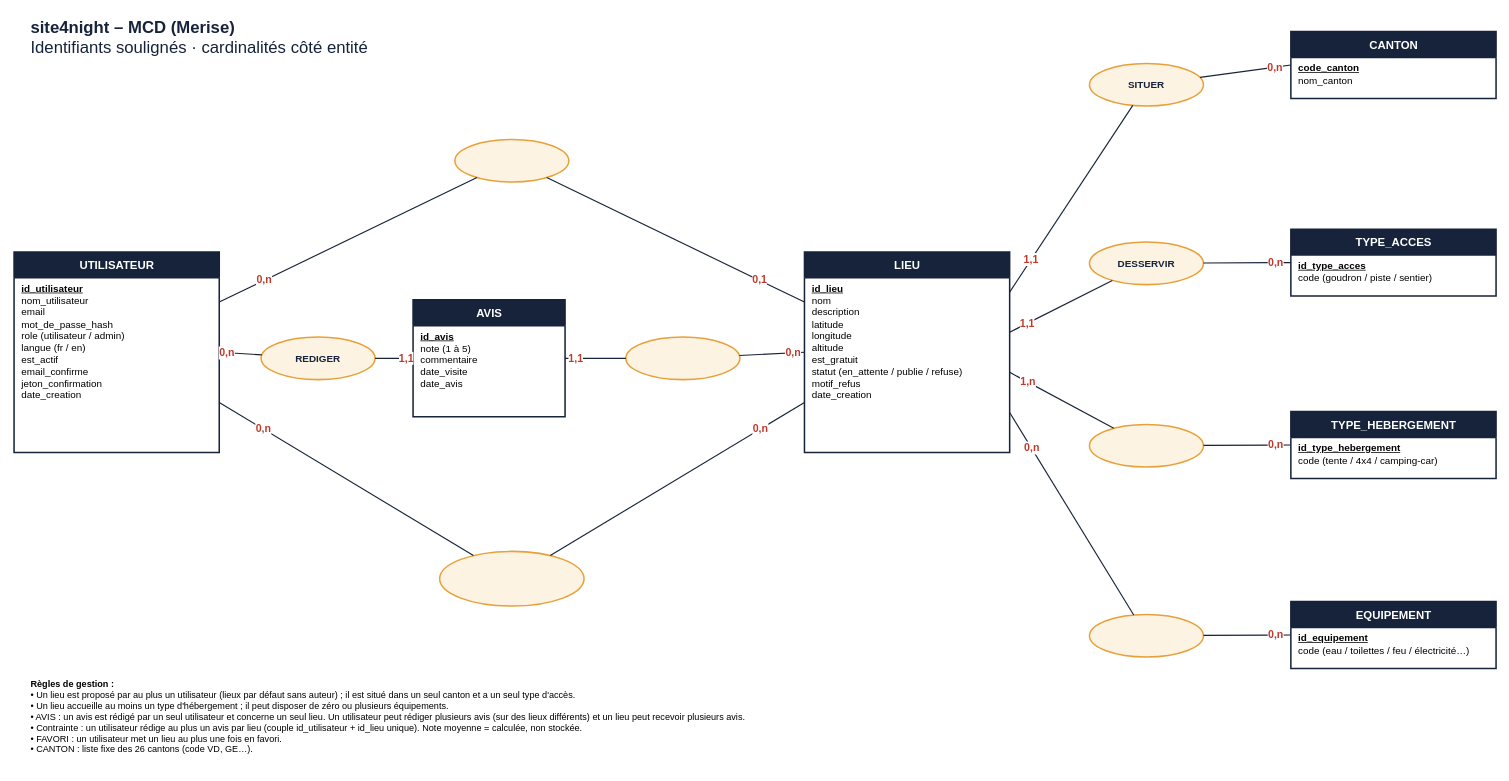
This 1509x781 diagram has some shape labels left out. The shapes that lost their labels are listed below. From the top down, each one's centre as x and y in pixels, then its label:
point 511,160: PROPOSER
point 682,358: CONCERNER
point 1146,445: ACCUEILLIR
point 511,578: FAVORI date_ajout
point 1146,635: DISPOSER
